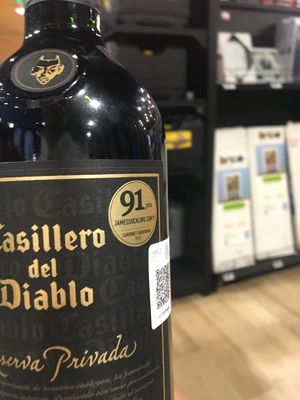casillero del diablo reserva privada cabernet sauvignon: (1, 4, 184, 400)
